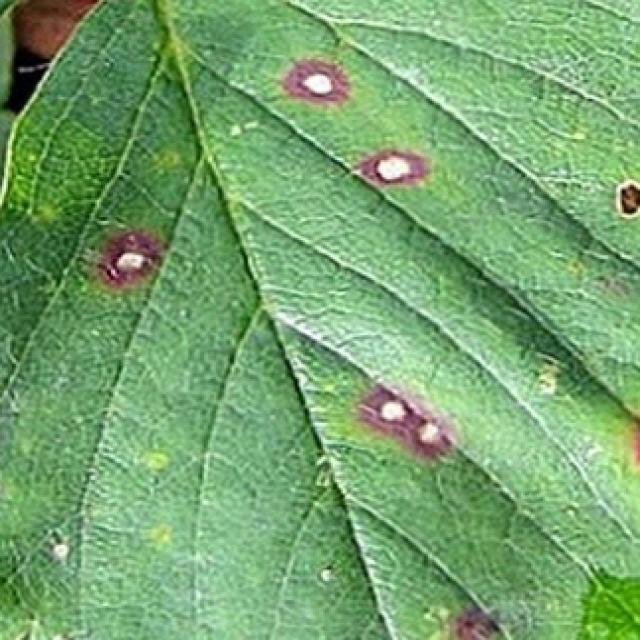Leaf Spot: (0, 0, 640, 640)
